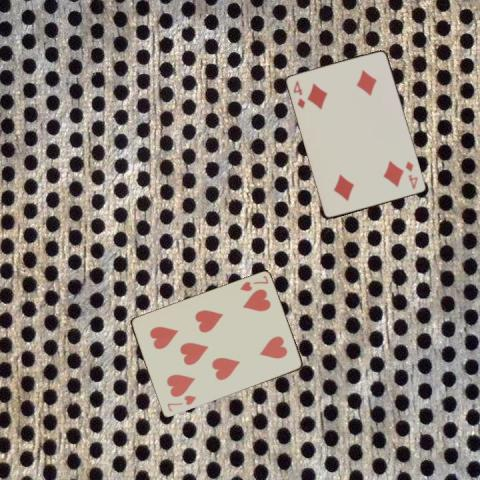4d: (403, 158, 419, 191), (290, 78, 306, 110)
7h: (164, 393, 198, 413), (237, 272, 270, 292)
